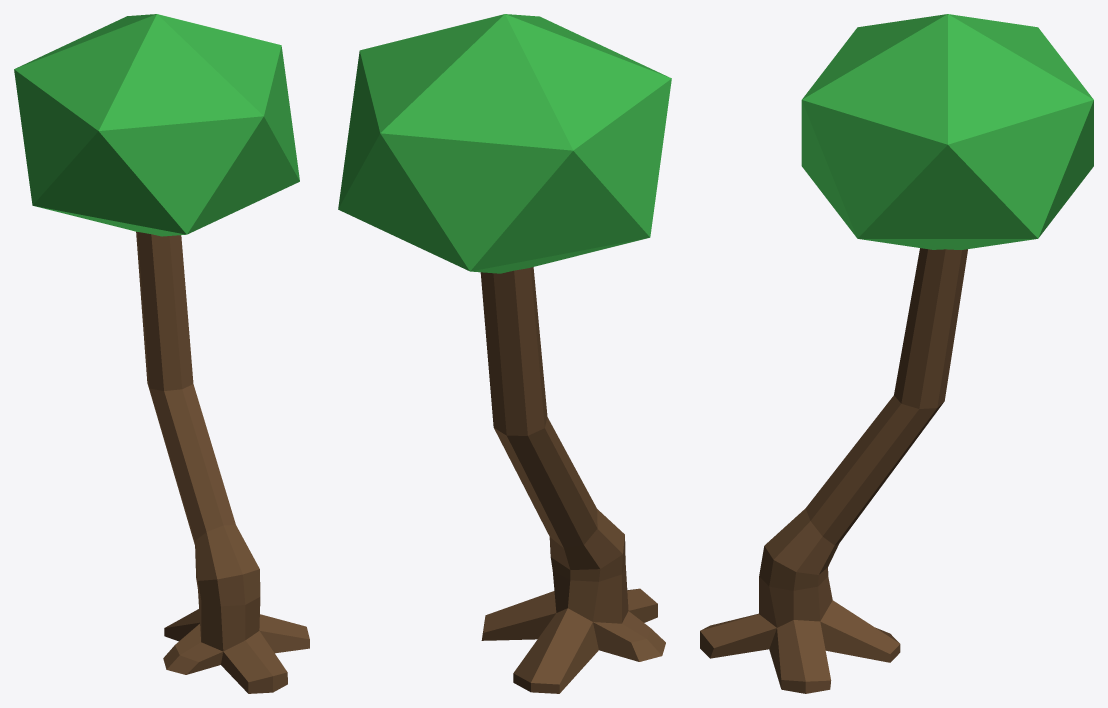
The model's file is Tree2.fbx.
The picture shows the model from 3 angles, left to right: view 1: azimuth 30°, elevation 25°; view 2: azimuth 150°, elevation 25°; view 3: azimuth 270°, elevation 25°; orthographic projection. The views are drawn at different scales.
Visible parts, largest first — view 1: Cylinder.001; view 2: Cylinder.001; view 3: Cylinder.001.
Boxes of the visible parts, <box> form: Cylinder.001: <box>14,14,309,693</box>; Cylinder.001: <box>338,14,671,693</box>; Cylinder.001: <box>700,14,1093,693</box>.
Size of the model in its own units: 140 by 322 by 180.
